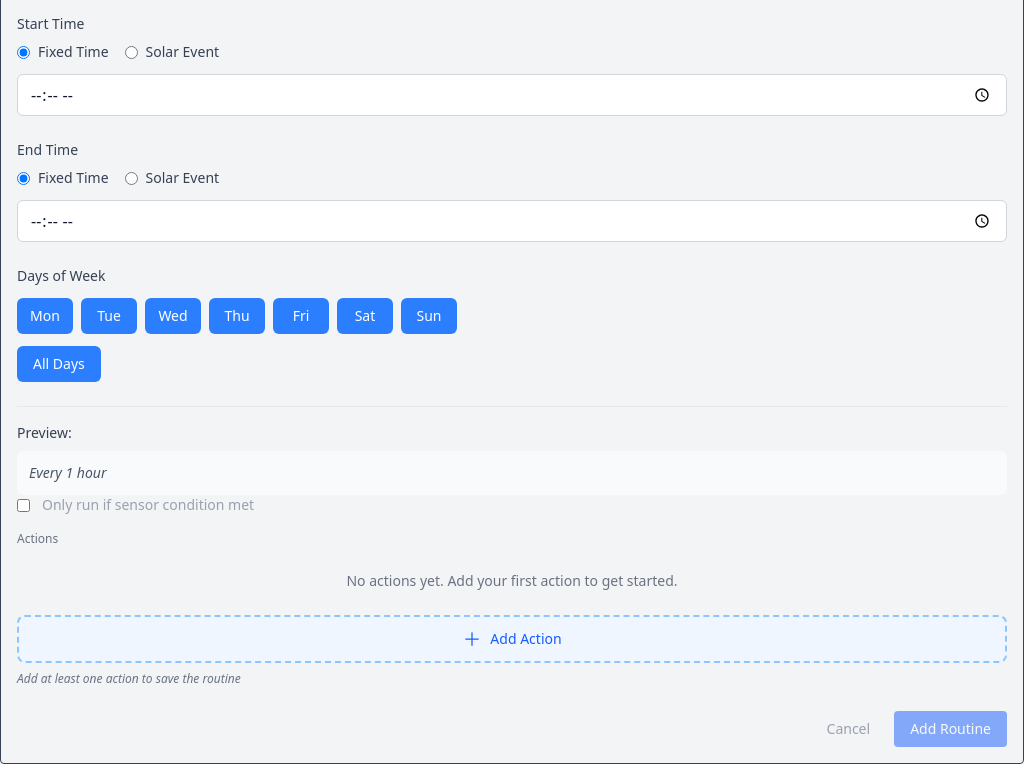
Test case: NewRoutineCard › action changes › enables save button when action is added
(page scrolled)
Click the button "Add Action".
click(512, 639)  # box [17,615,1007,663]
(page scrolled)
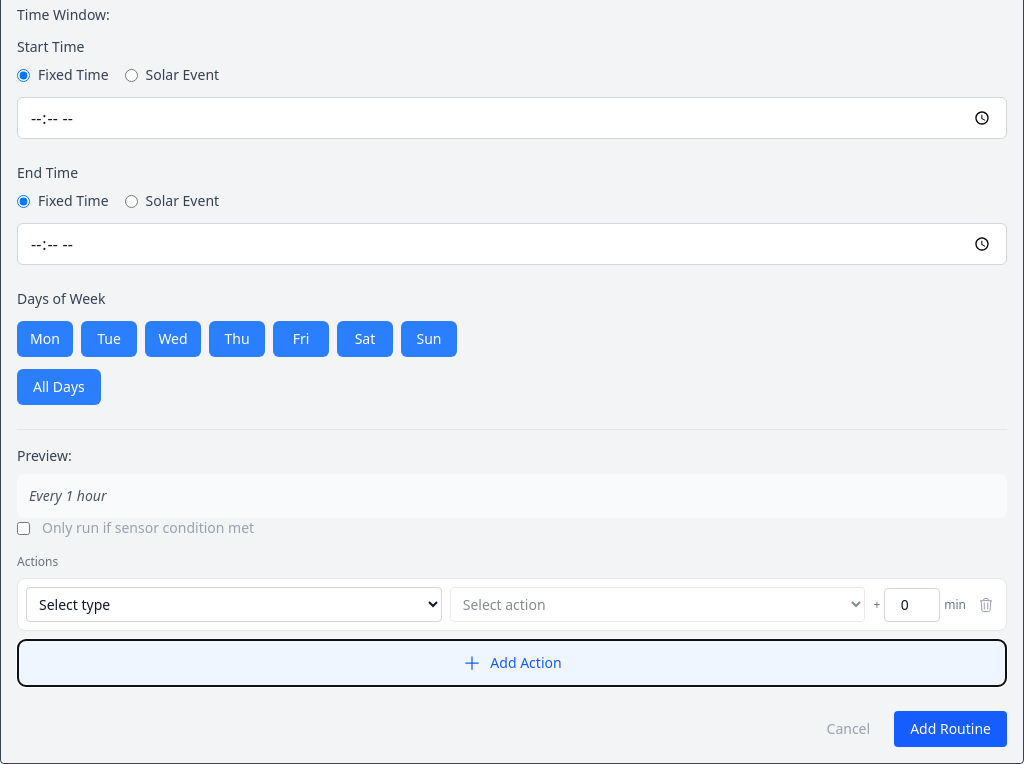
Now the button with test id "save-routine" is enabled, box [894,711,1007,747]
